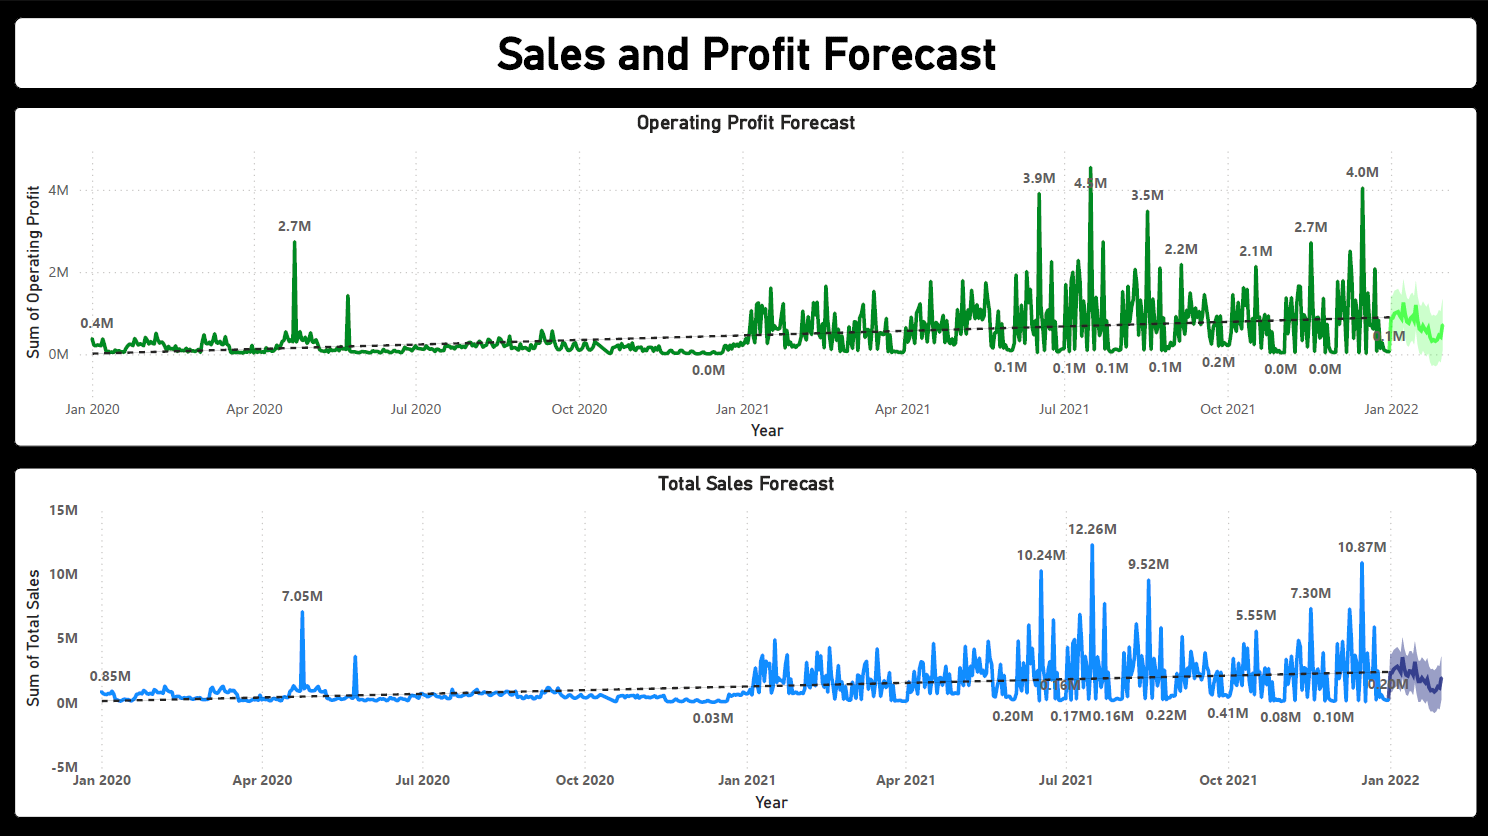

The dashboard page shown, as its layout file describes it:
{"tool":"powerbi","page":{"name":"Forecast","canvas":[1280,720],"ordinal":2},"visuals":[{"type":"textbox","box":[12.6,12.6,1257.8,62.8],"z":1000},{"type":"lineChart","title":"Total Sales Forecast","fields":{"Y":["Sum(Adidas Sales Data.Total Sales)"],"Category":["Adidas Sales Data.Invoice Date.Variation.Date Hierarchy.Year","Adidas Sales Data.Invoice Date.Variation.Date Hierarchy.Month","Adidas Sales Data.Invoice Date.Variation.Date Hierarchy.Day"]},"box":[12.6,400.4,1257.8,300.7],"z":4000},{"type":"lineChart","title":"Operating Profit Forecast","fields":{"Y":["Sum(Adidas Sales Data.Operating Profit)"],"Category":["Adidas Sales Data.Invoice Date.Variation.Date Hierarchy.Year","Adidas Sales Data.Invoice Date.Variation.Date Hierarchy.Quarter","Adidas Sales Data.Invoice Date.Variation.Date Hierarchy.Month","Adidas Sales Data.Invoice Date.Variation.Date Hierarchy.Day"]},"box":[12.6,89.8,1257.8,291.8],"z":7000}]}

Visuals, with their boxes in screenshot pixels (x1, y1, x2, y2), scaled from the page's 1280x720 canvas onto the 1488x836 screenshot:
textbox: [15,15,1477,88]
"Total Sales Forecast" lineChart: [15,465,1477,814]
"Operating Profit Forecast" lineChart: [15,104,1477,443]
